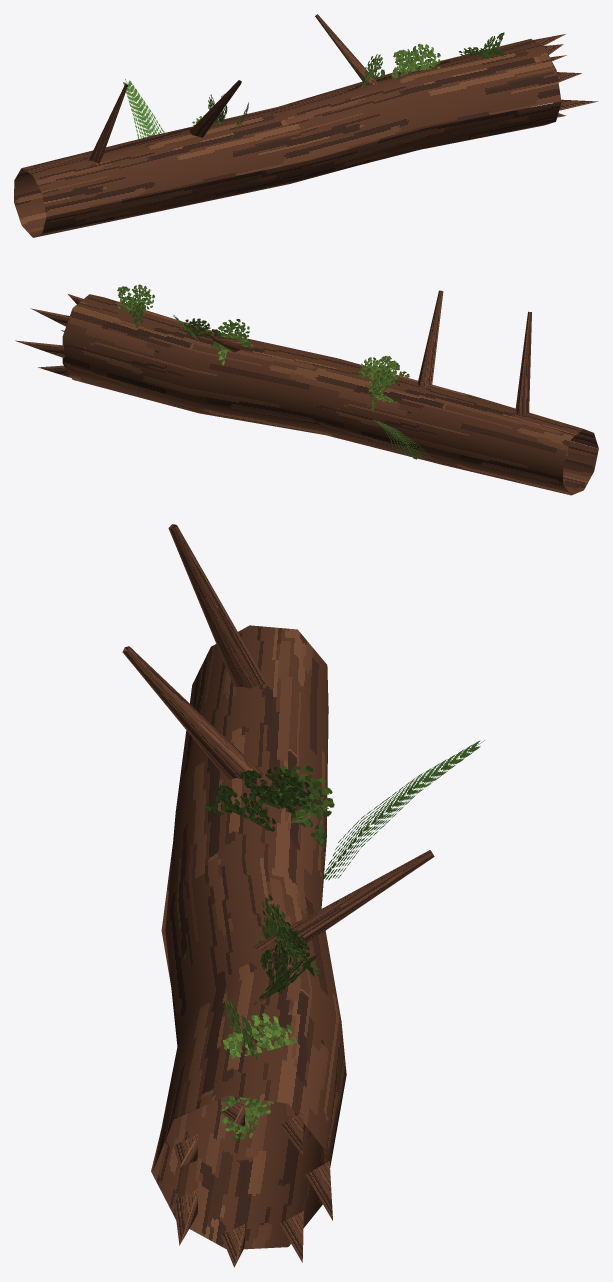
Rendered from flora_log.glb.
3 views of the same model, one above another, from view 1: azimuth 30°, elevation 25°; view 2: azimuth 150°, elevation 25°; view 3: azimuth 270°, elevation 25° (orthographic). The views are drawn at different scales.
Parts seen in each view (by area): view 1: flora_log; view 2: flora_log; view 3: flora_log.
Boxes of the visible parts, <box> form: flora_log: <box>14,14,598,237</box>; flora_log: <box>15,284,598,495</box>; flora_log: <box>122,524,484,1267</box>.
Bounding box in the file's own units: 5.5 × 1.47 × 1.59.
3 materials, 3 textured.
